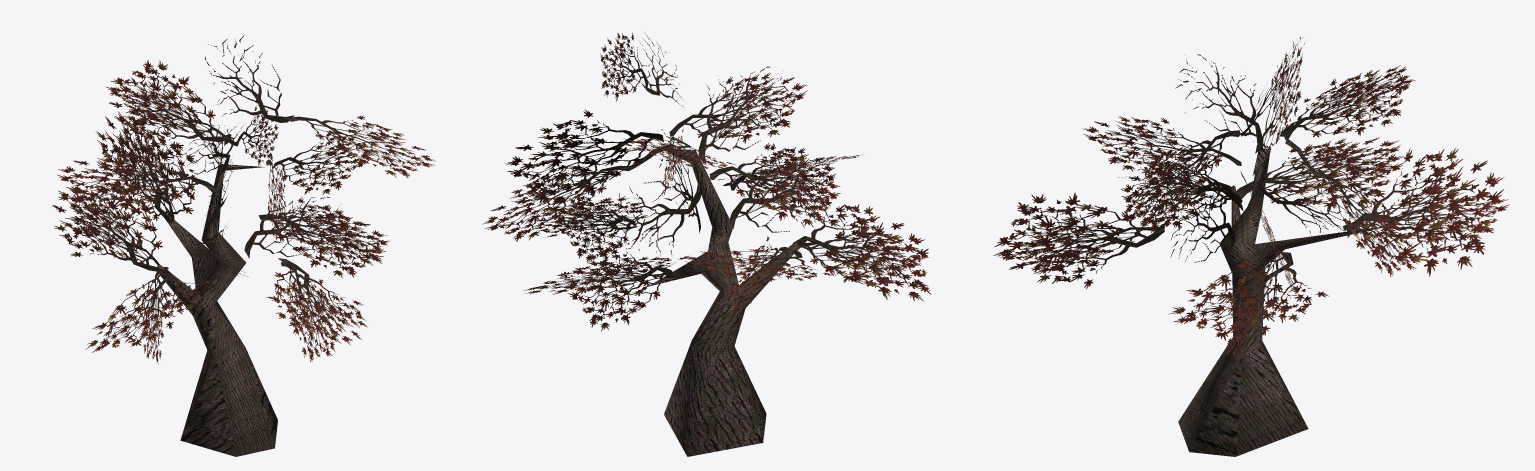
File: decd_dath_blacktree_l3.fbx
3 renders of one model, left to right at view 1: azimuth 30°, elevation 25°; view 2: azimuth 150°, elevation 25°; view 3: azimuth 270°, elevation 25°, orthographic. The views are drawn at different scales.
Parts seen in each view (by area): view 1: mesh_node; view 2: mesh_node; view 3: mesh_node.
Boxes of the visible parts, <box> form: mesh_node: <box>52,35,435,456</box>; mesh_node: <box>482,32,931,456</box>; mesh_node: <box>993,37,1509,456</box>.
Size of the model in its own units: 15.36 by 15.96 by 17.62.
